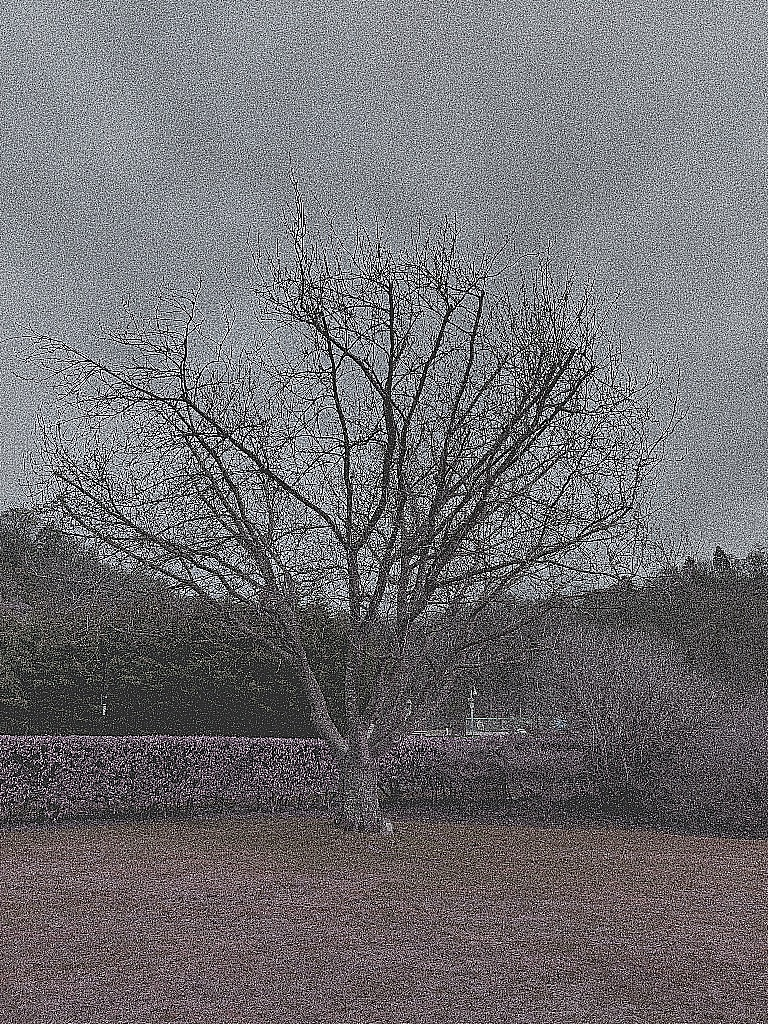Tree: (0, 148, 702, 837)
